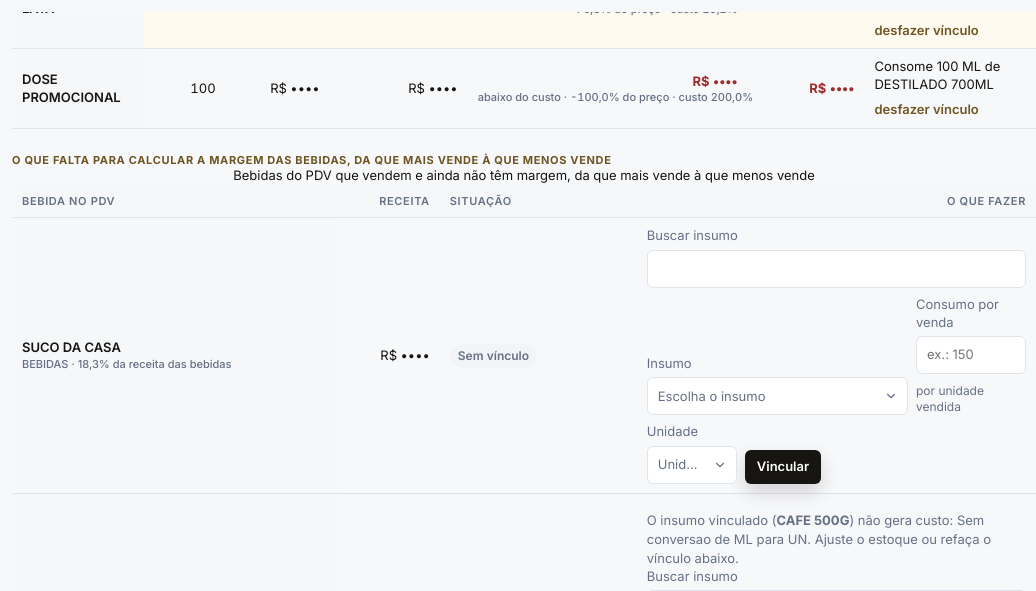
MargemBebidasPanel: o que falta › com unidade e quantidade mas sem insumo: erro anunciado, nada gravado
(page scrolled)
Type "1" into the field named "Quanto uma venda de SUCO DA CASA consome".
click(971, 355); type("1")  # box [916, 336, 1026, 374]
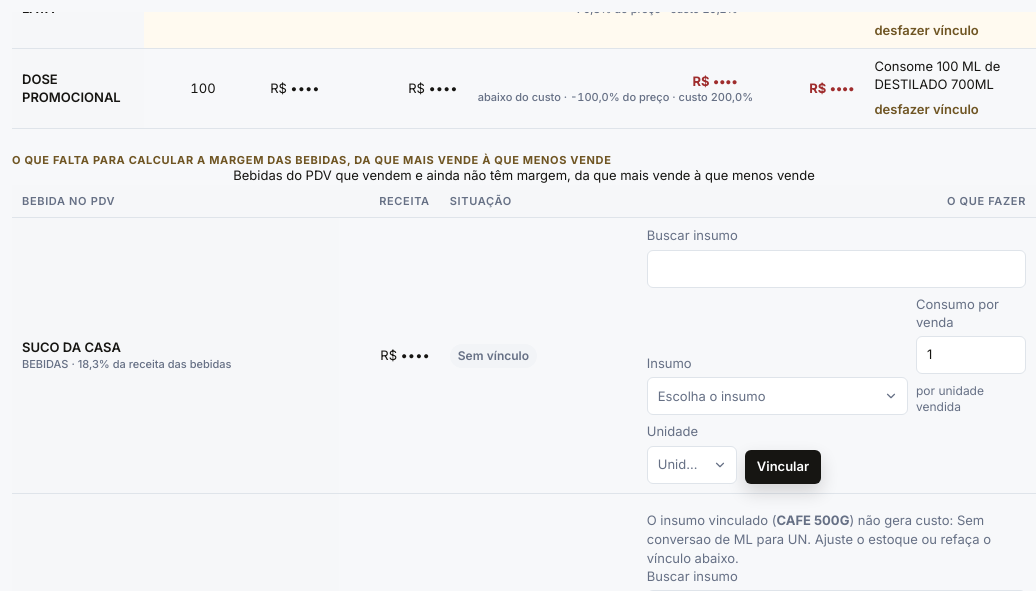
Select "UN" in the dropdown named "Unidade do consumo de SUCO DA CASA" at coordinates (692, 465), box [647, 446, 737, 484]
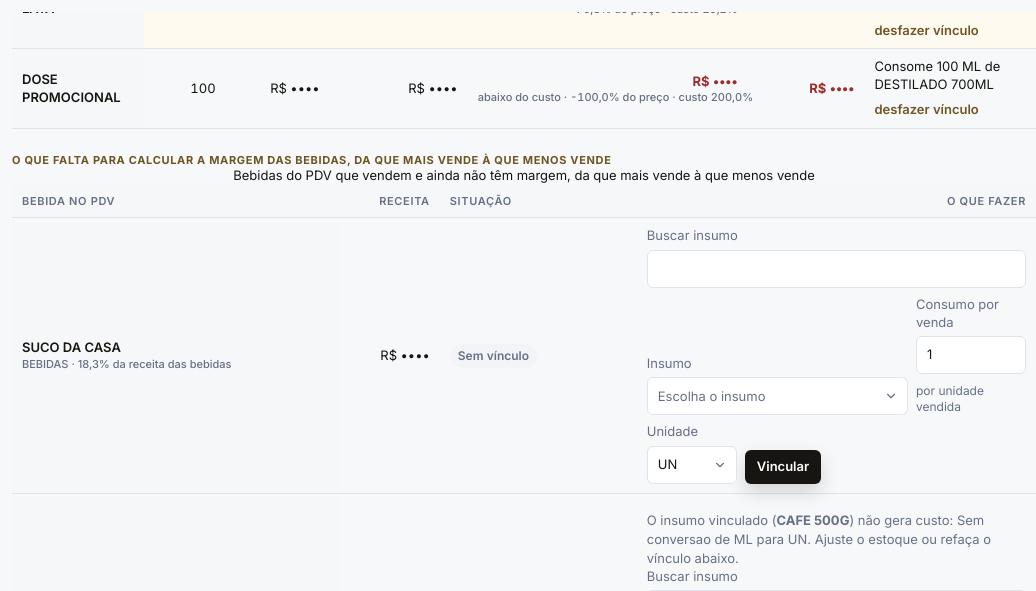
Click the button with aria-label "Vincular SUCO DA CASA".
click(783, 467)  # box [745, 450, 821, 484]
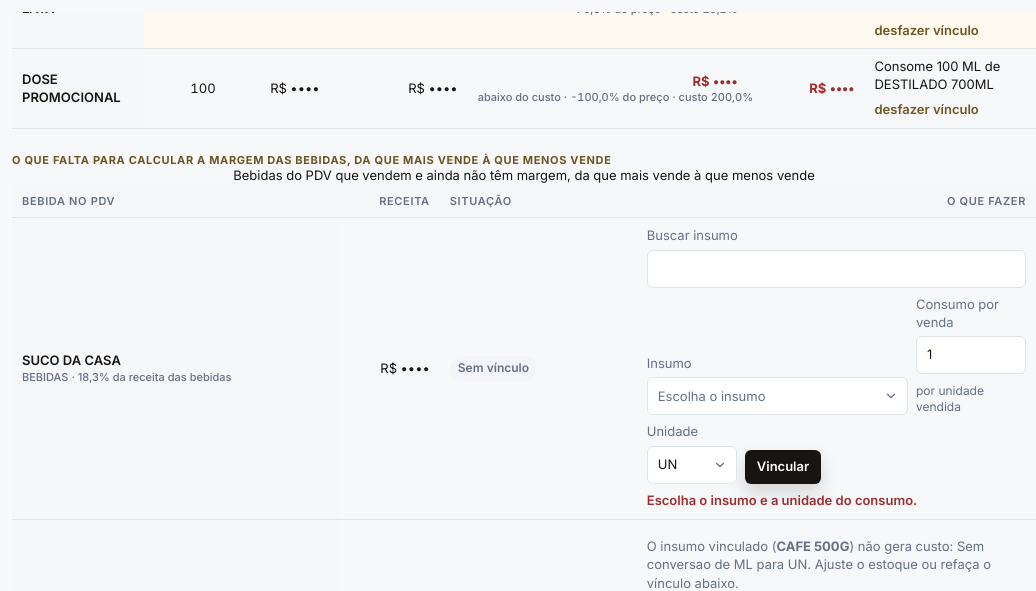
Check: the message shows "Escolha o insumo e a unidade", box [647, 492, 917, 508]
